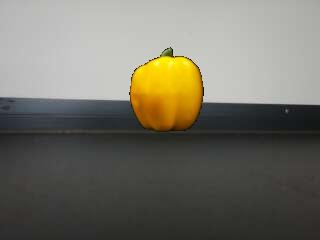Capsicum: (128, 46, 204, 133)
